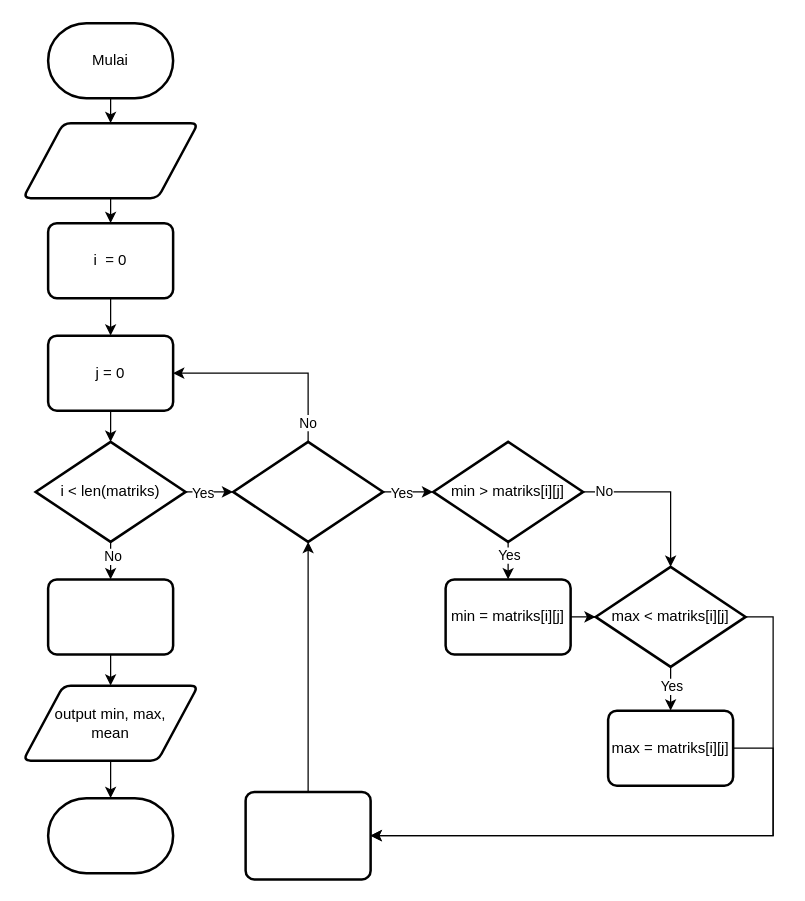
This 805x901 diagram has some shape labels left out. Here are the shapes that lost their labels. From the top down, the centre of each, then its label:
At point (110, 160): "Input matriks[2][3]".
At point (307, 491): "j < len(matriks[i])".
At point (110, 616): "mean = mean / (len(matriks) * len(matriks[0]))".
At point (110, 835): "Selesai".
At point (307, 835): "mean = mean + matriks[i][j] i = i + 1 j = j + 1".
